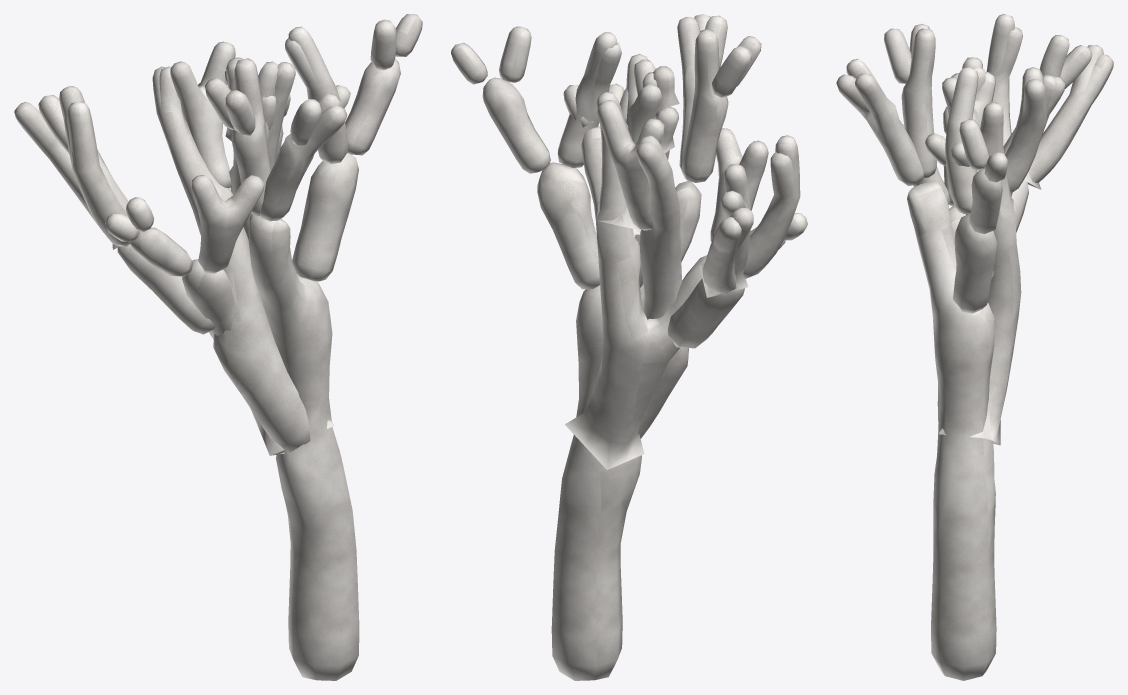
Rendered from coral_rama1.fbx.
3 renders of one model, left to right at view 1: azimuth 30°, elevation 25°; view 2: azimuth 150°, elevation 25°; view 3: azimuth 270°, elevation 25°, orthographic. The views are drawn at different scales.
Parts seen in each view (by area): view 1: coral_rama1; view 2: coral_rama1; view 3: coral_rama1.
Part boxes in pixels (x1=…): coral_rama1: x1=14, y1=14, x2=422, y2=680; coral_rama1: x1=451, y1=14, x2=807, y2=680; coral_rama1: x1=836, y1=14, x2=1113, y2=680.
Bounding box in the file's own units: 0.887 × 1.58 × 0.6579.
1 material, 1 textured.
